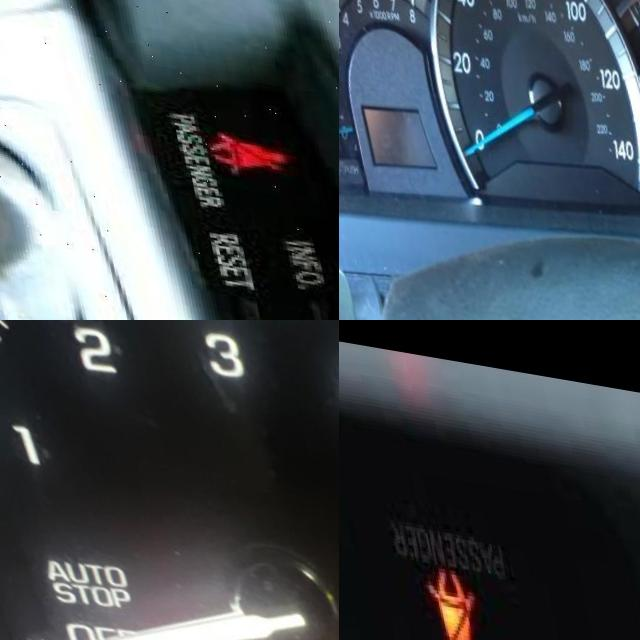Seat Belt: (415, 557, 473, 640), (192, 117, 277, 170)
